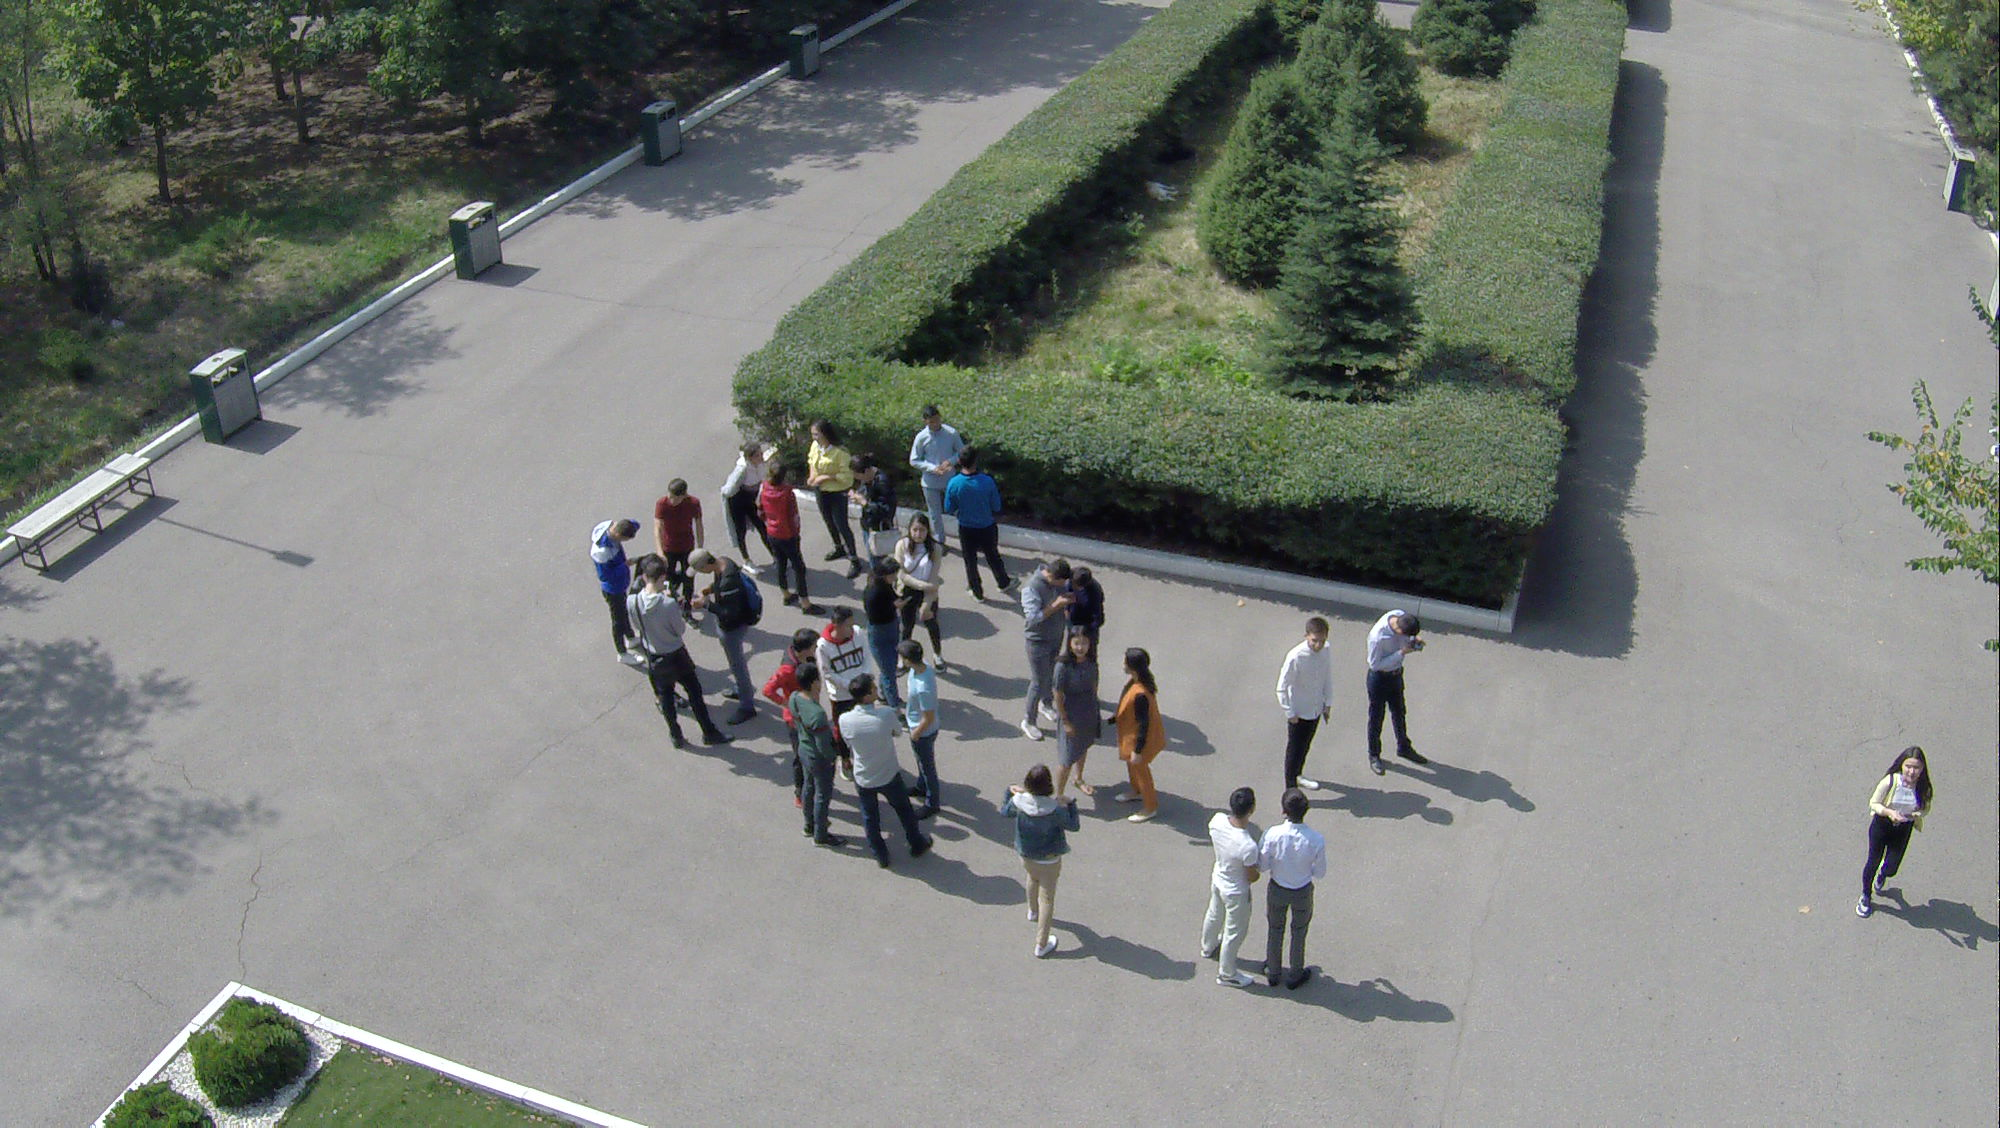person: (830, 668, 930, 876), (993, 768, 1085, 966), (630, 562, 724, 749), (1853, 743, 1930, 930), (1262, 785, 1330, 995), (1201, 780, 1268, 983), (1012, 555, 1078, 747), (1105, 641, 1170, 833), (780, 664, 849, 847), (893, 399, 968, 560), (1043, 626, 1110, 797), (1366, 605, 1432, 778), (1280, 608, 1341, 797), (899, 637, 953, 835), (578, 514, 643, 676), (955, 451, 1016, 608), (887, 516, 945, 635), (764, 451, 805, 601), (812, 418, 853, 560), (728, 435, 766, 587), (855, 453, 891, 572), (660, 476, 705, 564), (824, 597, 870, 668), (1080, 572, 1110, 645), (774, 637, 820, 674)
